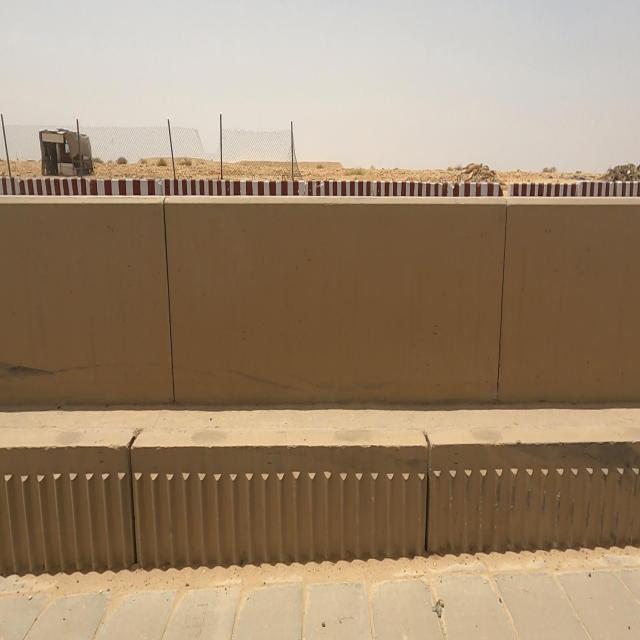debris: (432, 121, 526, 226)
